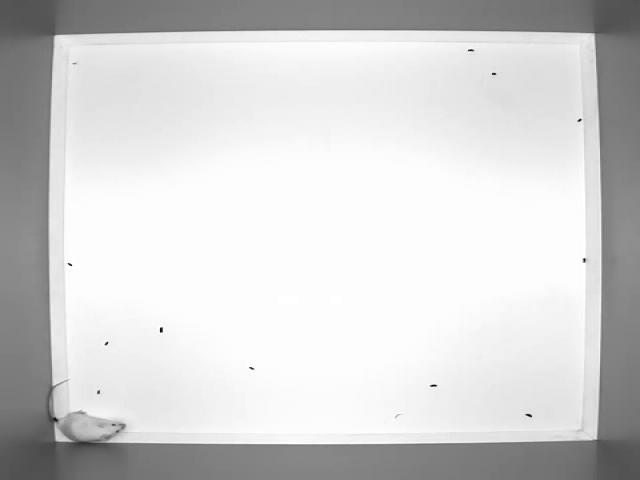Tikus: (46, 379, 126, 444)
